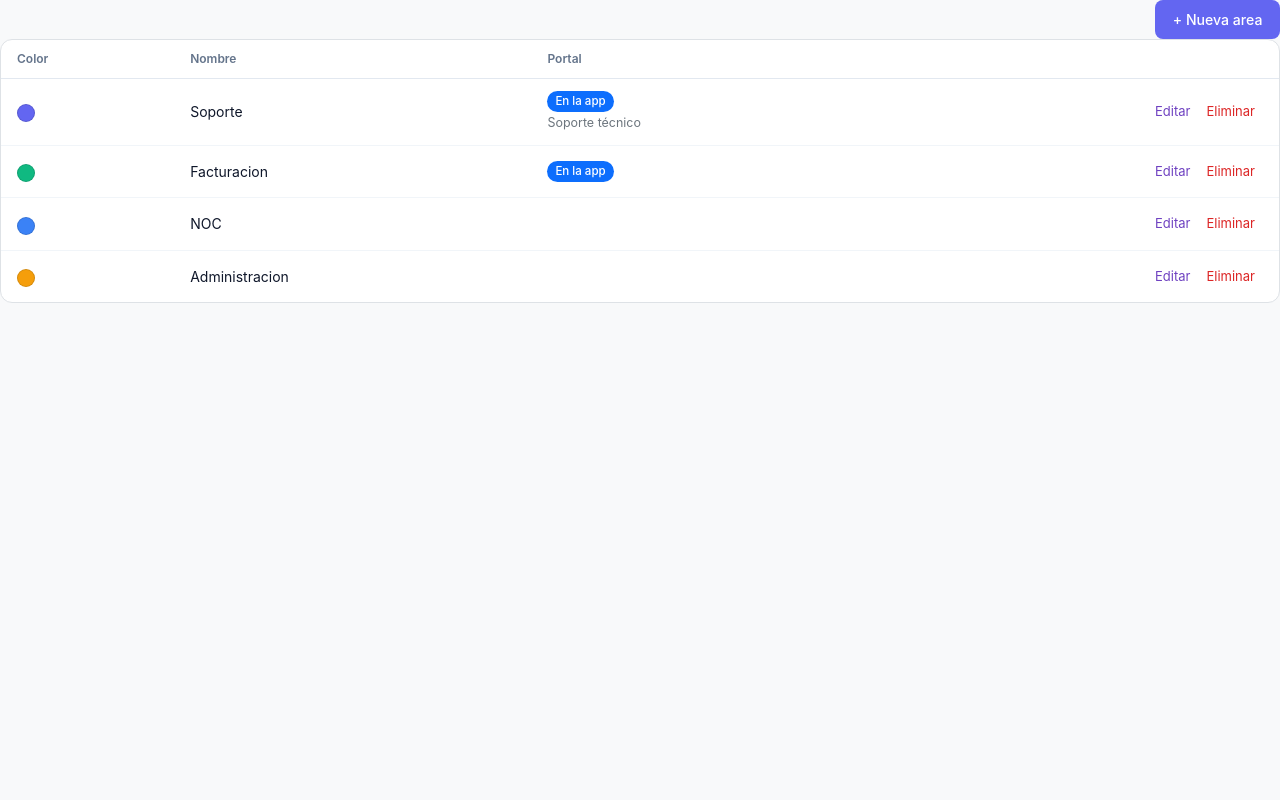
Test case: TicketAreasBody › opens create modal when Nueva area is clicked
Click the button "+ Nueva area".
click(1218, 19)  # box x1=1155 y1=0 x2=1279 y2=39
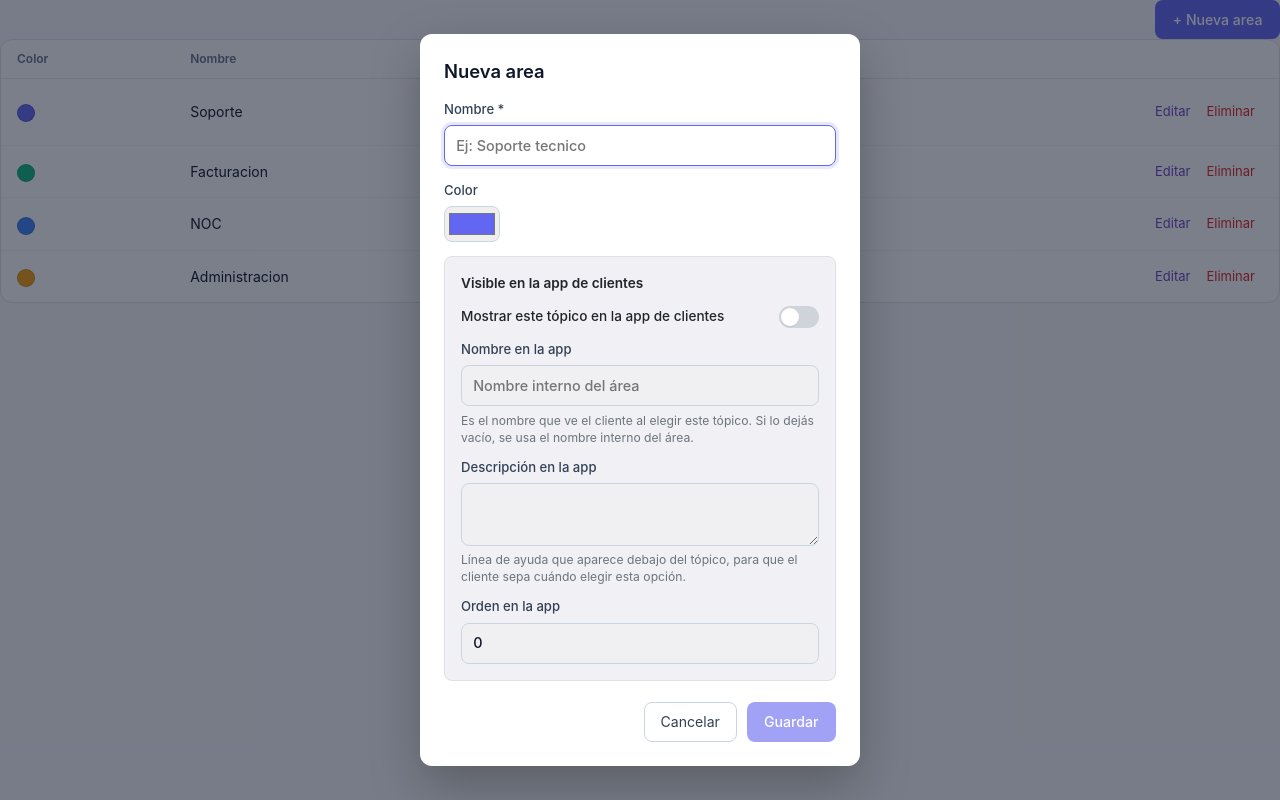
Now the heading "Nueva area" is shown, box x1=444 y1=60 x2=545 y2=82
Now the field with placeholder "Ej: Soporte tecnico" is shown, box x1=444 y1=125 x2=836 y2=166
